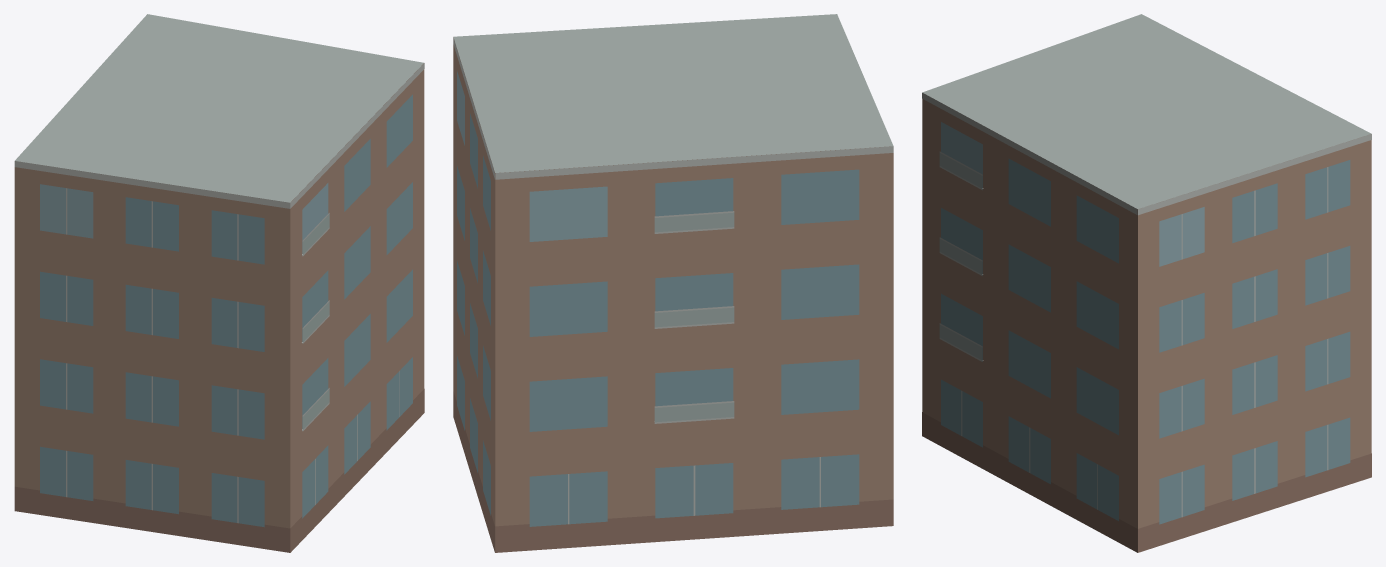
Rendered from survey-upis-32814085.glb.
3 views of the same model, side by side, from view 1: azimuth 30°, elevation 25°; view 2: azimuth 150°, elevation 25°; view 3: azimuth 270°, elevation 25° (orthographic). The views are drawn at different scales.
Visible parts, largest first — view 1: survey-upis-32814085.tmp; view 2: survey-upis-32814085.tmp; view 3: survey-upis-32814085.tmp.
Part boxes in pixels (bbox=[...]): survey-upis-32814085.tmp: bbox=[14, 14, 424, 552]; survey-upis-32814085.tmp: bbox=[453, 14, 893, 552]; survey-upis-32814085.tmp: bbox=[922, 14, 1371, 552].
Bounding box in the file's own units: 16.83 × 13.8 × 16.37.
